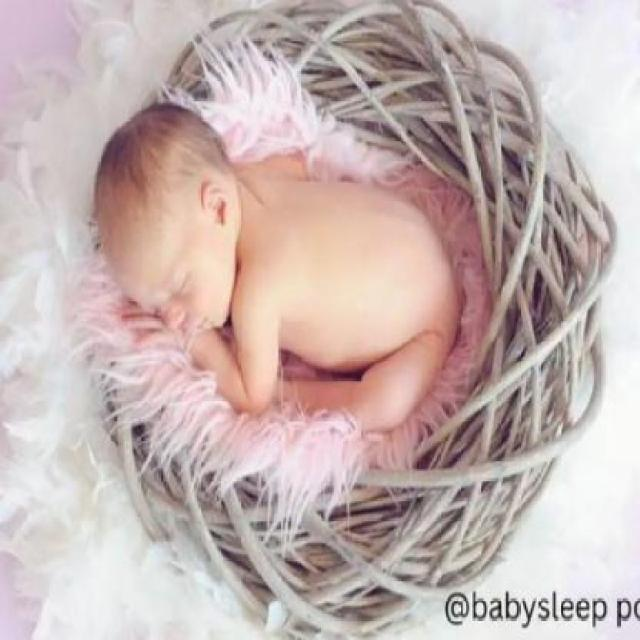baby: (89, 98, 460, 434)
